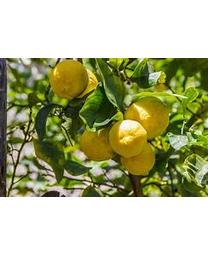lemon: (124, 96, 170, 139), (110, 119, 148, 158), (50, 61, 89, 98), (79, 127, 116, 161), (123, 142, 153, 173)
